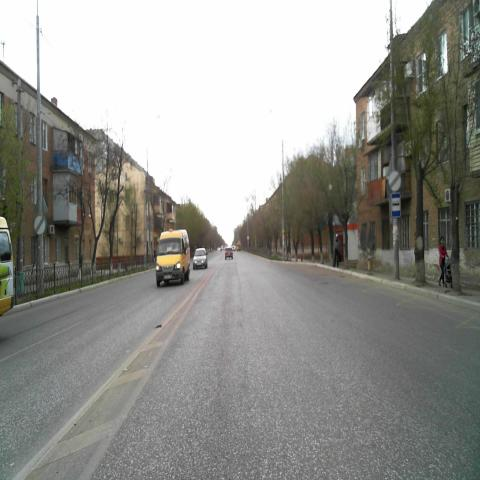3_31: (388, 170, 400, 192), (34, 215, 46, 235)
5_16: (391, 192, 401, 218)
